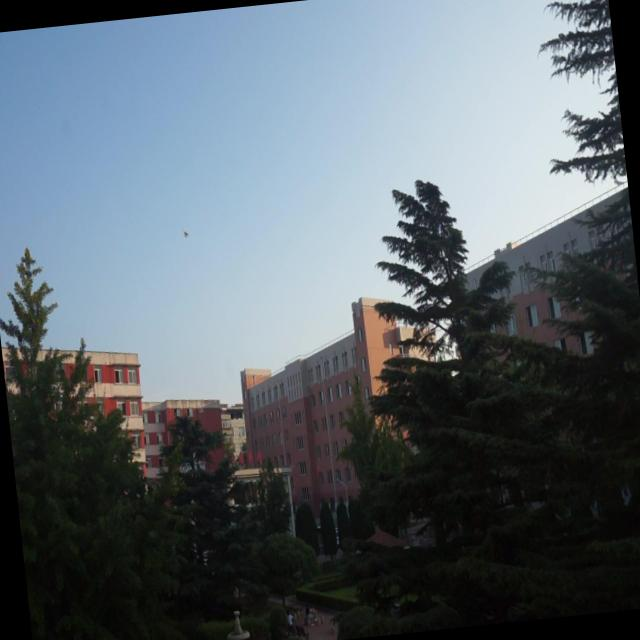drone: (180, 226, 190, 240)
